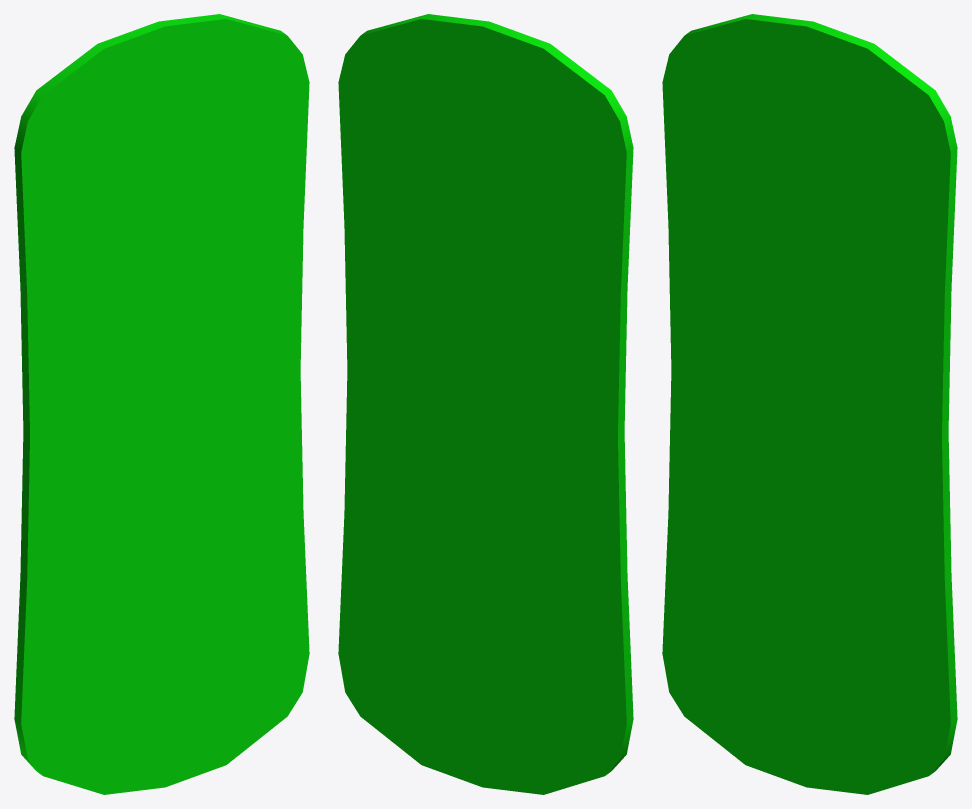
The picture shows the model from 3 angles, left to right: view 1: azimuth 30°, elevation 25°; view 2: azimuth 150°, elevation 25°; view 3: azimuth 330°, elevation 25°; orthographic projection.
Parts seen in each view (by area): view 1: Plano_034-mesh; view 2: Plano_034-mesh; view 3: Plano_034-mesh.
Boxes of the visible parts, x1,y1,x2,y2 form: Plano_034-mesh: [14, 14, 309, 794]; Plano_034-mesh: [338, 14, 633, 794]; Plano_034-mesh: [662, 14, 957, 794].
Bounding box in the file's own units: 1.14 × 2.87 × 0.0461.
